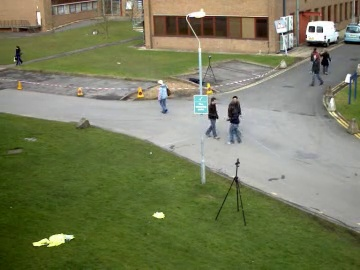person: (226, 97, 243, 141), (226, 97, 242, 141), (156, 80, 170, 113)
